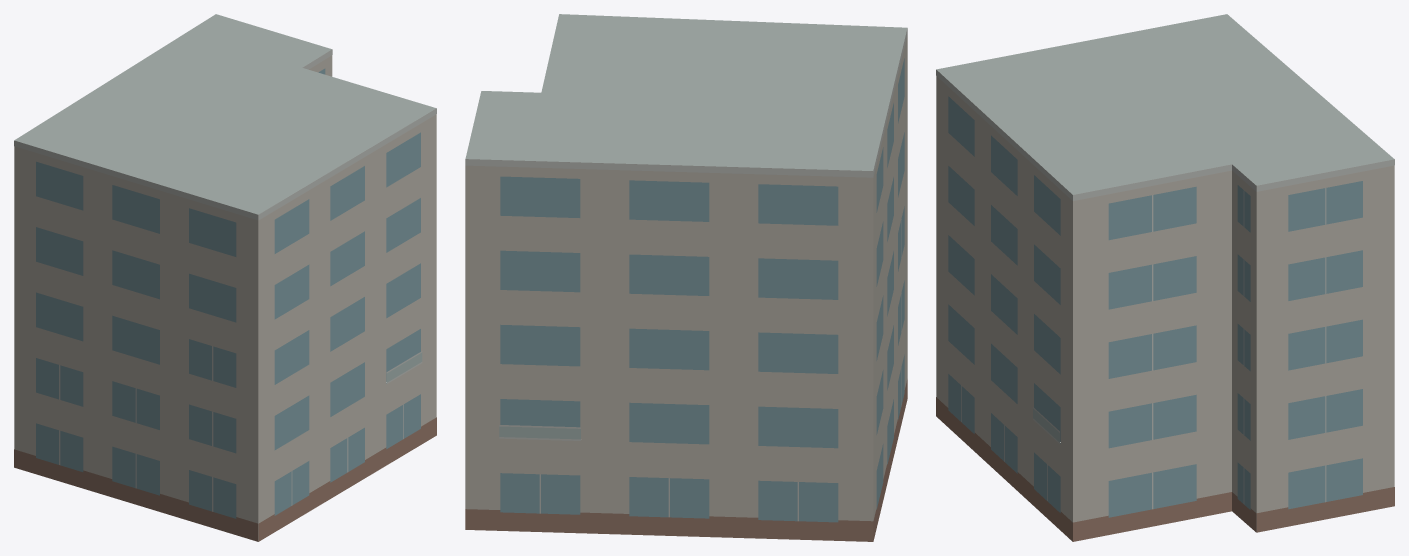
The model's file is survey-upis-32721106.glb.
3 renders of one model, left to right at view 1: azimuth 30°, elevation 25°; view 2: azimuth 150°, elevation 25°; view 3: azimuth 270°, elevation 25°, orthographic. The views are drawn at different scales.
Parts seen in each view (by area): view 1: survey-upis-32721106.tmp; view 2: survey-upis-32721106.tmp; view 3: survey-upis-32721106.tmp.
Part boxes in pixels (x1=…): survey-upis-32721106.tmp: x1=14, y1=14, x2=436, y2=541; survey-upis-32721106.tmp: x1=465, y1=14, x2=907, y2=541; survey-upis-32721106.tmp: x1=936, y1=14, x2=1394, y2=541.
Size of the model in its own units: 15.46 by 13.8 by 16.55.
